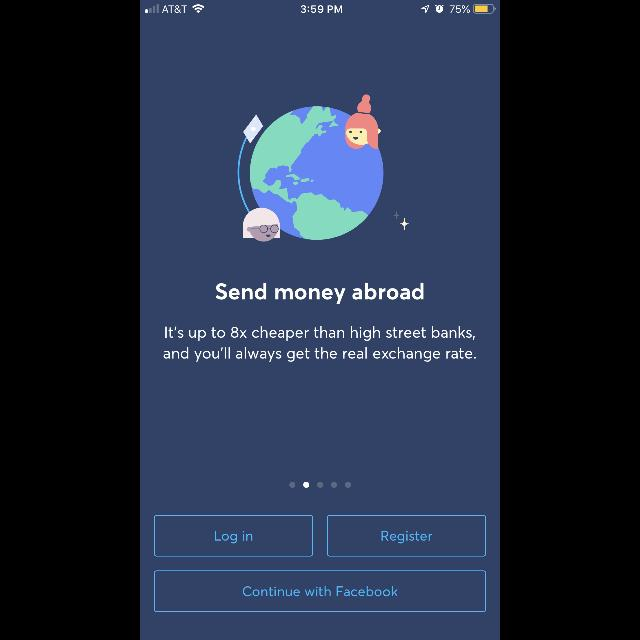image: (237, 94, 408, 242)
pageindicator: (289, 482, 351, 488)
text: (164, 326, 476, 362), (216, 283, 424, 305)
textbutton: (154, 570, 486, 612), (328, 515, 487, 557), (154, 515, 312, 557)
uppertaskbar: (140, 0, 500, 14)
